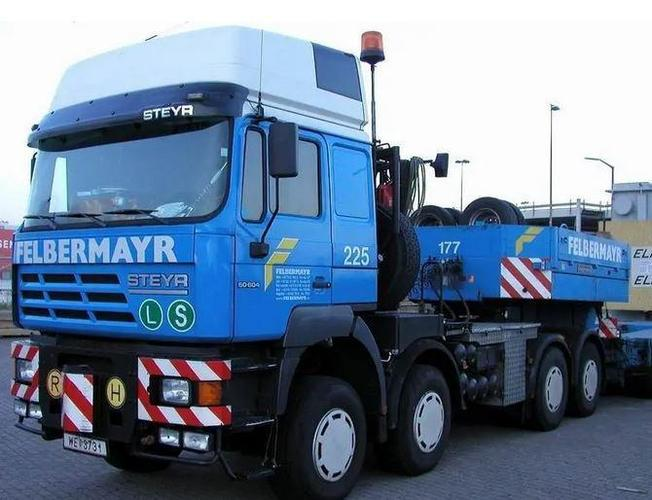卡车: (8, 19, 652, 500)
